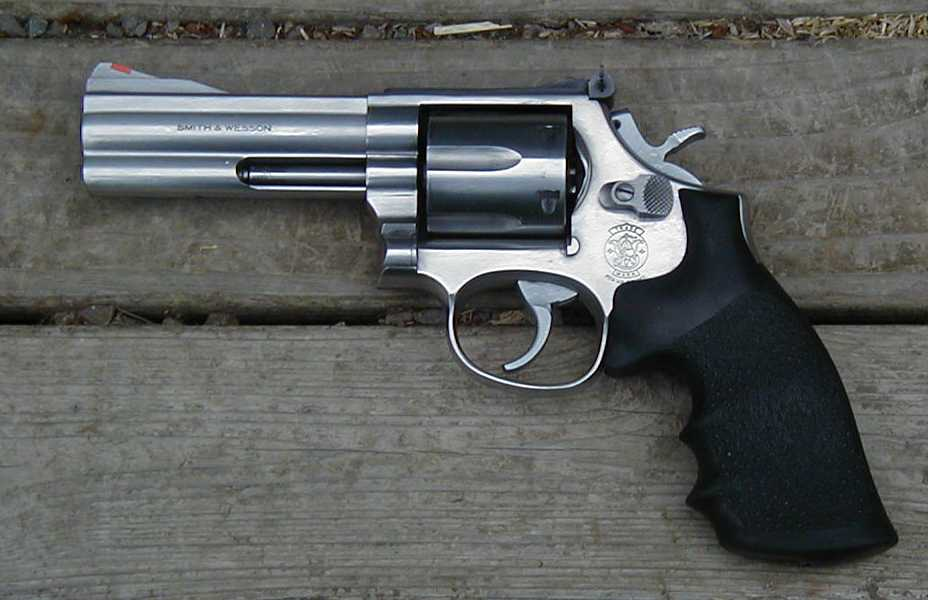gun: (68, 49, 917, 580)
